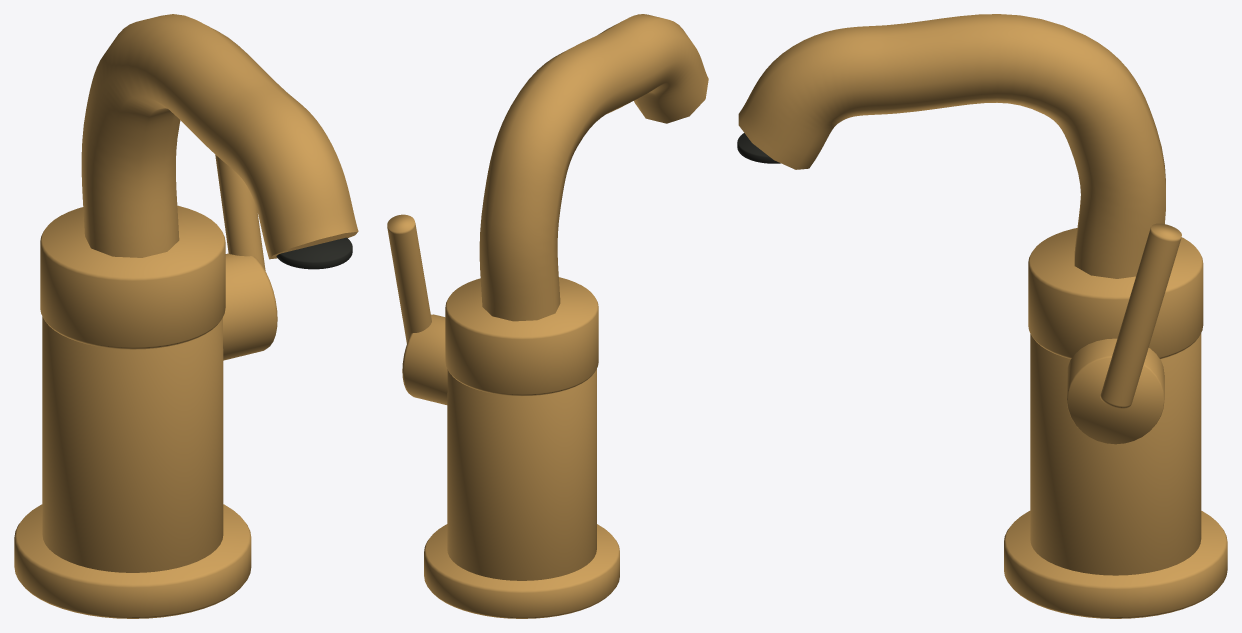
Rendered from faucet.glb.
The picture shows the model from 3 angles, left to right: view 1: azimuth 30°, elevation 25°; view 2: azimuth 150°, elevation 25°; view 3: azimuth 270°, elevation 25°; orthographic projection. The views are drawn at different scales.
Visible parts, largest first — view 1: Radius spout, Pedestal, Mixer joint, Escutcheon, Mixer axle, Single control lever, Aerator dark mesh; view 2: Radius spout, Pedestal, Mixer joint, Escutcheon, Single control lever, Mixer axle; view 3: Radius spout, Pedestal, Mixer joint, Escutcheon, Mixer axle, Single control lever.
Boxes of the visible parts, bbox=[...] form: Radius spout: bbox=[81, 14, 358, 259]; Pedestal: bbox=[42, 316, 223, 572]; Mixer joint: bbox=[40, 205, 225, 349]; Escutcheon: bbox=[14, 504, 251, 618]; Mixer axle: bbox=[223, 253, 277, 360]; Single control lever: bbox=[215, 155, 265, 270]; Aerator dark mesh: bbox=[276, 237, 352, 269]; Radius spout: bbox=[479, 14, 708, 321]; Pedestal: bbox=[447, 369, 596, 580]; Mixer joint: bbox=[445, 277, 598, 395]; Escutcheon: bbox=[424, 524, 619, 618]; Single control lever: bbox=[387, 214, 431, 343]; Mixer axle: bbox=[402, 314, 447, 404]; Radius spout: bbox=[738, 14, 1165, 278]; Pedestal: bbox=[1030, 333, 1201, 575]; Mixer joint: bbox=[1028, 228, 1203, 358]; Escutcheon: bbox=[1004, 511, 1227, 618]; Mixer axle: bbox=[1067, 338, 1164, 444]; Single control lever: bbox=[1100, 223, 1181, 408].
Size of the model in its own units: 0.127 by 0.2999 by 0.241.
